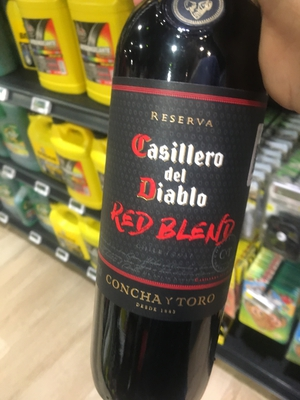casillero del diablo red blend: (83, 45, 271, 400)
